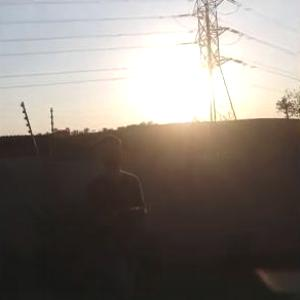follow: (78, 128, 151, 299)
